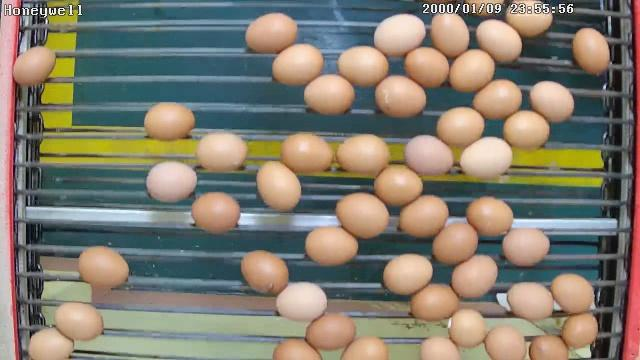egg: (334, 191, 390, 240), (458, 134, 513, 182), (373, 72, 428, 119), (76, 243, 130, 290), (304, 222, 359, 268), (334, 133, 392, 176), (238, 249, 292, 295), (270, 42, 325, 87), (243, 11, 299, 54), (450, 251, 499, 300), (399, 192, 449, 240), (255, 160, 302, 211), (190, 190, 242, 236), (372, 13, 426, 57), (279, 131, 334, 174), (194, 131, 249, 174), (303, 311, 359, 353), (372, 162, 424, 207), (301, 73, 355, 116), (336, 44, 391, 86), (401, 43, 451, 89), (382, 252, 434, 296), (274, 281, 328, 323), (446, 48, 496, 93), (471, 78, 523, 121), (403, 134, 455, 177), (144, 161, 198, 202), (431, 220, 478, 267), (473, 18, 522, 63), (52, 300, 104, 342), (408, 281, 460, 323), (142, 102, 196, 142), (528, 80, 576, 124), (436, 105, 485, 148), (464, 195, 514, 237), (570, 26, 612, 76), (501, 108, 551, 149), (428, 10, 471, 57), (10, 45, 58, 87), (500, 226, 550, 266), (550, 270, 595, 314), (506, 280, 554, 320), (504, 0, 554, 38), (26, 325, 76, 360), (447, 307, 488, 348), (483, 323, 528, 360), (560, 311, 600, 349)
